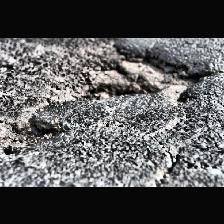pothole: (65, 38, 215, 104), (0, 111, 68, 153)
